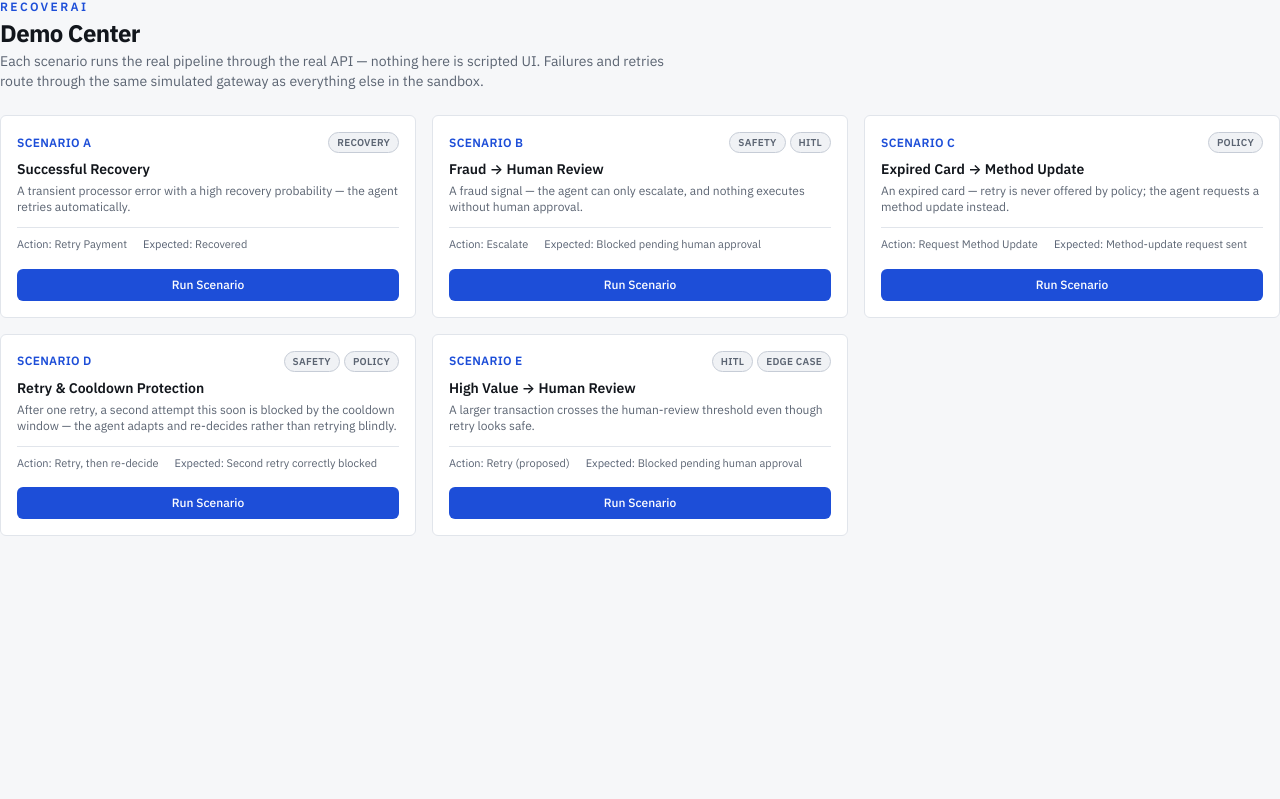
Test: DemoCenter › shows a genuine failed-retry outcome when the backend reports one — no fabricated success state
Click the button "Run Scenario" below "Retry Payment".
click(208, 284)  # box 17,268 -> 399,300
(page scrolled)
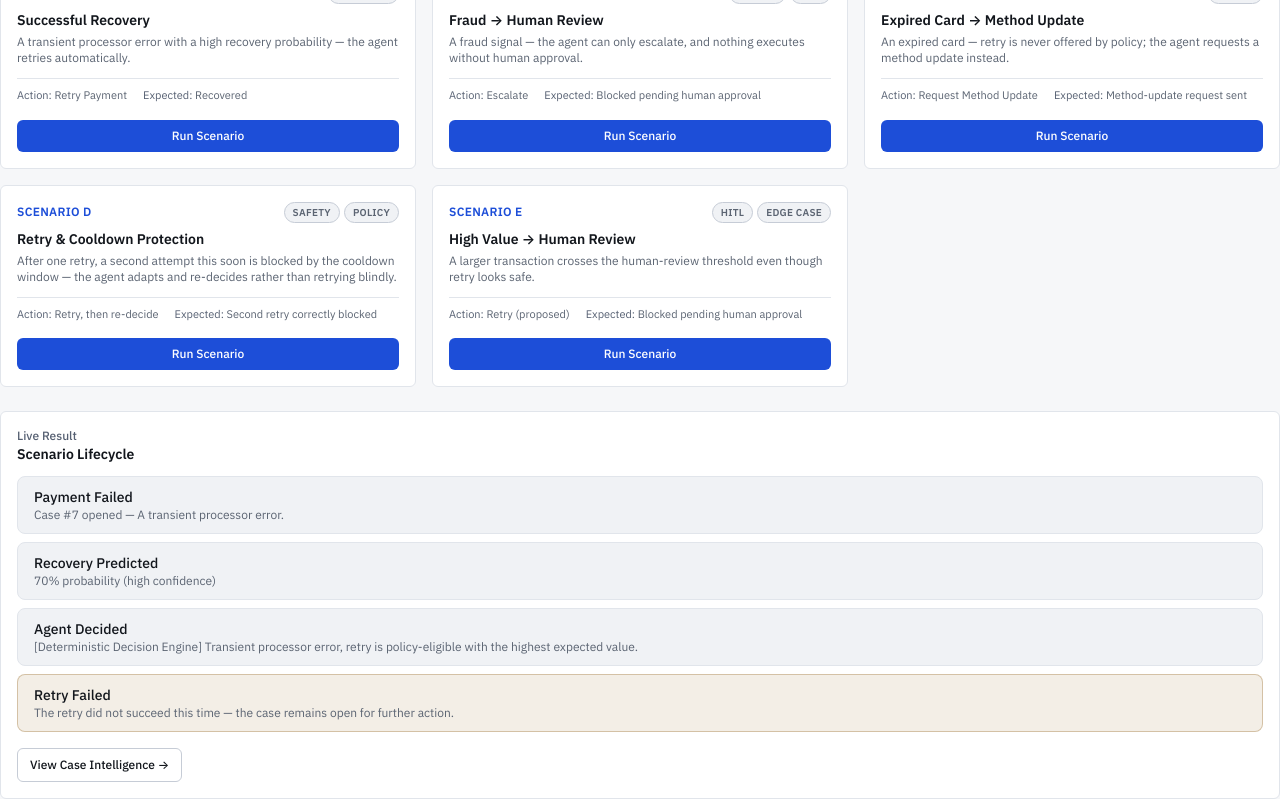
Result: the text "Retry Failed" is shown at 34,686 -> 111,704
